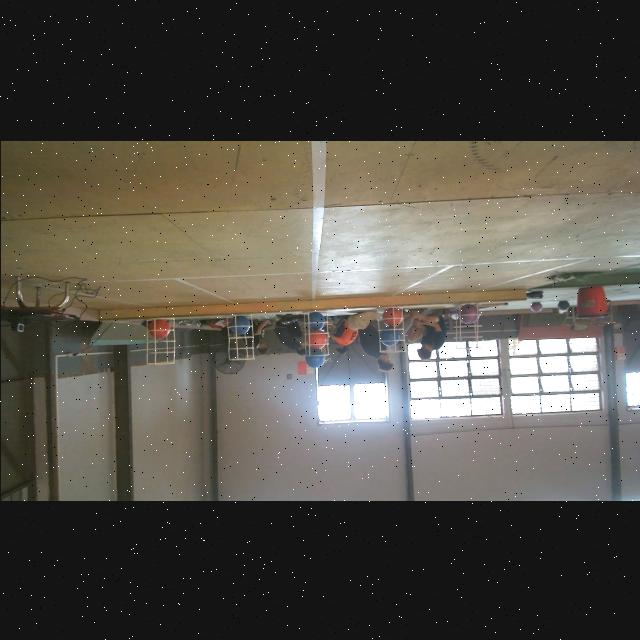B: (229, 315, 249, 333), (304, 349, 324, 367), (379, 327, 398, 345), (306, 311, 324, 329)
R: (148, 318, 170, 338), (306, 328, 326, 348), (382, 308, 402, 326)
